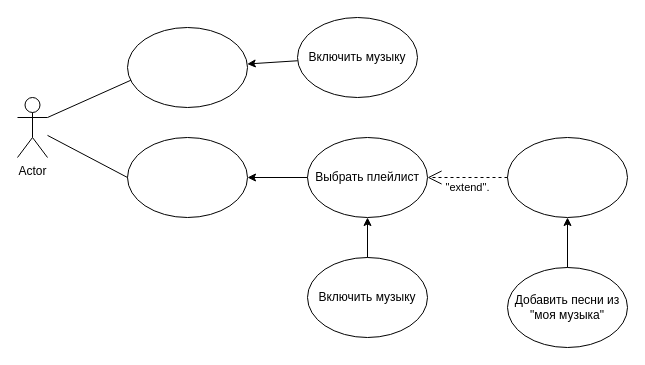
Some shapes in this 645 by 365 pixel diagram are drawn without their labels. The box of each missing label's shape, as (x1, y1, x2, y2) in pixels:
Перейти в "Мои плейлисты": (126, 136, 248, 218)
Перейти в "Мою музыку": (126, 26, 248, 108)
Создать плейлист: (506, 136, 628, 218)
